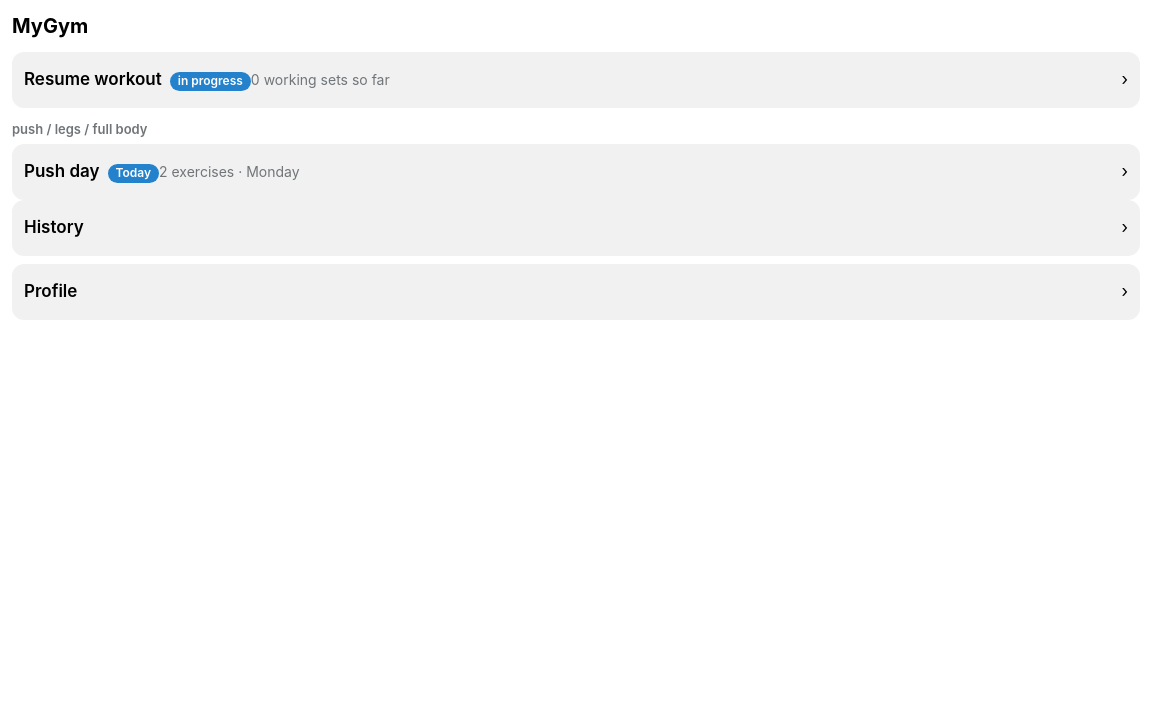
Test case: the critical path › a workout left open is offered for resuming on the next launch
The width and height of the screenshot is (1152, 720).
Click the text "Resume workout".
click(93, 79)  # box [24, 69, 162, 89]
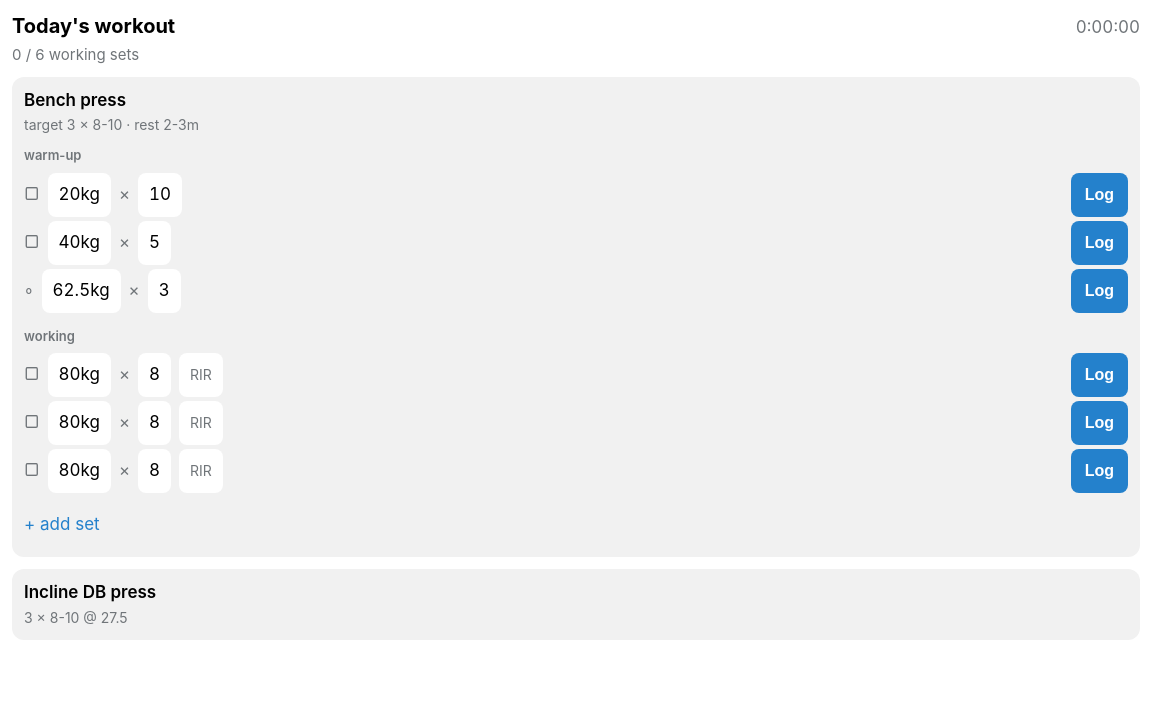
Result: the text "0 / 6 working sets" is shown at [12, 45, 139, 64]
